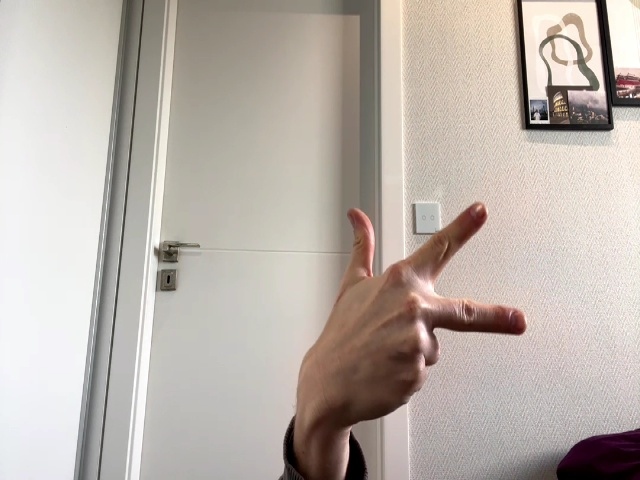K: (323, 201, 528, 399)
